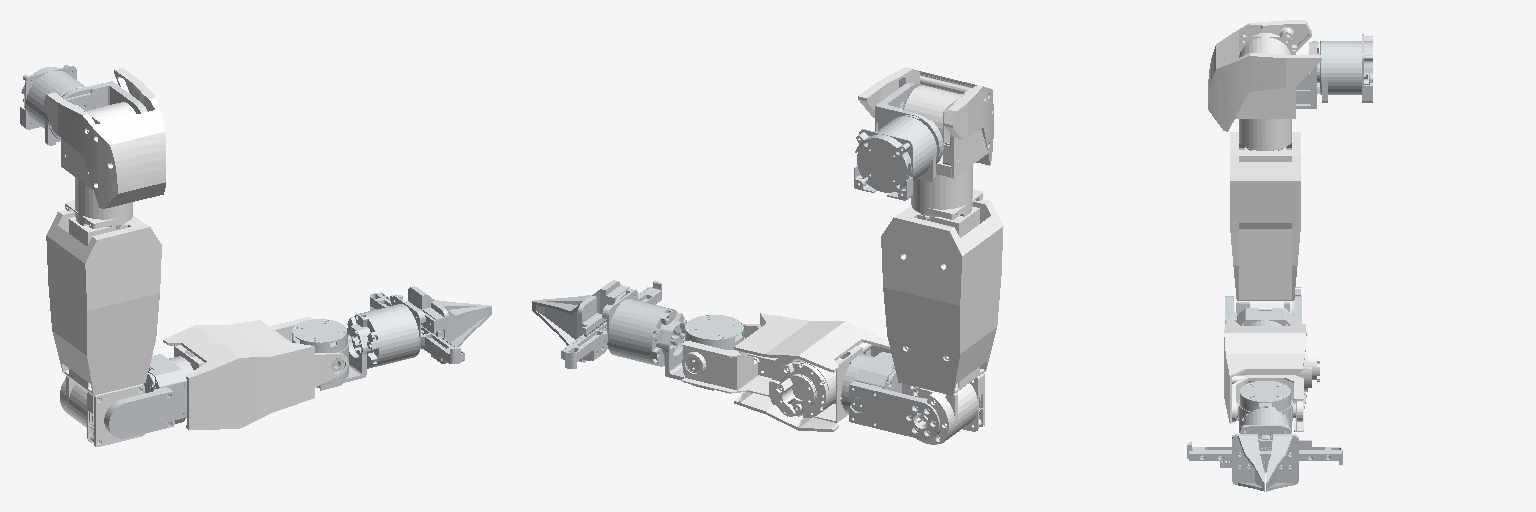
URDF robot description (X7RIGHTurdf):
<?xml version="1.0" encoding="utf-8"?>
<!-- This URDF was automatically created by SolidWorks to URDF Exporter! Originally created by [author] ([email redacted]) 
     Commit Version: 1.6.0-4-g7f85cfe  Build Version: 1.6.7995.38578
     For more information, please see http://wiki.ros.org/sw_urdf_exporter -->
<robot
  name="X7RIGHTurdf">
  <link
    name="base_link">
    <inertial>
      <origin
        xyz="1.2504E-08 -0.028534 -0.00042549"
        rpy="0 0 0" />
      <mass
        value="0.41722" />
      <inertia
        ixx="0.00019"
        ixy="0.00000"
        ixz="0.00000"
        iyy="0.00020"
        iyz="0.00000"
        izz="0.00019" />
    </inertial>
    <visual>
      <origin
        xyz="0 0 0"
        rpy="0 0 0" />
      <geometry>
        <mesh
          filename="package://X7RIGHTurdf/meshes/base_link.STL" />
      </geometry>
      <material
        name="">
        <color
          rgba="0.89804 0.91765 0.92941 1" />
      </material>
    </visual>
    <collision>
      <origin
        xyz="0 0 0"
        rpy="0 0 0" />
      <geometry>
        <mesh
          filename="package://X7RIGHTurdf/meshes/base_link.STL" />
      </geometry>
    </collision>
  </link>
  <link
    name="link1">
    <inertial>
      <origin
        xyz="0.020311877665791 0.0282074621926083 -0.000172803675324487"
        rpy="0 0 0" />
      <mass
        value="0.131891884746085" />
      <inertia
        ixx="0.00012"
        ixy="0.00004"
        ixz="0.00000"
        iyy="0.00009"
        iyz="0.00000"
        izz="0.00014" />
    </inertial>
    <visual>
      <origin
        xyz="0 0 0"
        rpy="0 0 0" />
      <geometry>
        <mesh
          filename="package://X7RIGHTurdf/meshes/link1.STL" />
      </geometry>
      <material
        name="">
        <color
          rgba="0.898039215686275 0.917647058823529 0.929411764705882 1" />
      </material>
    </visual>
    <collision>
      <origin
        xyz="0 0 0"
        rpy="0 0 0" />
      <geometry>
        <mesh
          filename="package://X7RIGHTurdf/meshes/link1.STL" />
      </geometry>
    </collision>
  </link>
  <joint
    name="joint1"
    type="revolute">
    <origin
      xyz="0 -0.05325 0"
      rpy="3.1416 0 0" />
    <parent
      link="base_link" />
    <child
      link="link1" />
    <axis
      xyz="0 1 0" />
    <limit
      lower="-10"
      upper="10"
      effort="100"
      velocity="1000" />
  </joint>
  <link
    name="link2">
    <inertial>
      <origin
        xyz="0.0247335828183295 0.00274558253413404 -0.0271343777277399"
        rpy="0 0 0" />
      <mass
        value="0.971762294464618" />
      <inertia
        ixx="0.00153"
        ixy="-0.00002"
        ixz="-0.00007"
        iyy="0.00153"
        iyz="0.00002"
        izz="0.00074" />
    </inertial>
    <visual>
      <origin
        xyz="0 0 0"
        rpy="0 0 0" />
      <geometry>
        <mesh
          filename="package://X7RIGHTurdf/meshes/link2.STL" />
      </geometry>
      <material
        name="">
        <color
          rgba="1 1 1 1" />
      </material>
    </visual>
    <collision>
      <origin
        xyz="0 0 0"
        rpy="0 0 0" />
      <geometry>
        <mesh
          filename="package://X7RIGHTurdf/meshes/link2.STL" />
      </geometry>
    </collision>
  </link>
  <joint
    name="joint2"
    type="revolute">
    <origin
      xyz="0.02725 0.063 0"
      rpy="-3.1416 0 3.1416" />
    <parent
      link="link1" />
    <child
      link="link2" />
    <axis
      xyz="1 0 0" />
    <limit
      lower="-10"
      upper="10"
      effort="100"
      velocity="1000" />
  </joint>
  <link
    name="link3">
    <inertial>
      <origin
        xyz="-0.000220857289176216 -0.000553733546450982 0.156391453478832"
        rpy="0 0 0" />
      <mass
        value="0.868185917328255" />
      <inertia
        ixx="0.00529"
        ixy="0.00001"
        ixz="-0.00005"
        iyy="0.00533"
        iyz="-0.00003"
        izz="0.00078" />
    </inertial>
    <visual>
      <origin
        xyz="0 0 0"
        rpy="0 0 0" />
      <geometry>
        <mesh
          filename="package://X7RIGHTurdf/meshes/link3.STL" />
      </geometry>
      <material
        name="">
        <color
          rgba="1 1 1 1" />
      </material>
    </visual>
    <collision>
      <origin
        xyz="0 0 0"
        rpy="0 0 0" />
      <geometry>
        <mesh
          filename="package://X7RIGHTurdf/meshes/link3.STL" />
      </geometry>
    </collision>
  </link>
  <joint
    name="joint3"
    type="revolute">
    <origin
      xyz="0.02725 0 -0.0865"
      rpy="3.1416 0 3.1416" />
    <parent
      link="link2" />
    <child
      link="link3" />
    <axis
      xyz="0 0 1" />
    <limit
      lower="-10"
      upper="10"
      effort="100"
      velocity="1000" />
  </joint>
  <link
    name="link4">
    <inertial>
      <origin
        xyz="0.0609931749498321 -0.0253615233623468 3.20631404917004E-05"
        rpy="0 0 0" />
      <mass
        value="0.483750765199191" />
      <inertia
        ixx="0.00037"
        ixy="-0.00001"
        ixz="0.00000"
        iyy="0.00043"
        iyz="0.00000"
        izz="0.00058" />
    </inertial>
    <visual>
      <origin
        xyz="0 0 0"
        rpy="0 0 0" />
      <geometry>
        <mesh
          filename="package://X7RIGHTurdf/meshes/link4.STL" />
      </geometry>
      <material
        name="">
        <color
          rgba="0.898039215686275 0.917647058823529 0.929411764705882 1" />
      </material>
    </visual>
    <collision>
      <origin
        xyz="0 0 0"
        rpy="0 0 0" />
      <geometry>
        <mesh
          filename="package://X7RIGHTurdf/meshes/link4.STL" />
      </geometry>
    </collision>
  </link>
  <joint
    name="joint4"
    type="revolute">
    <origin
      xyz="0 -0.02725 0.2165"
      rpy="-3.1416 0 0" />
    <parent
      link="link3" />
    <child
      link="link4" />
    <axis
      xyz="0 1 0" />
    <limit
      lower="-10"
      upper="10"
      effort="100"
      velocity="1000" />
  </joint>
  <link
    name="link5">
    <inertial>
      <origin
        xyz="0.0539578945957472 0.0089407013070102 -5.90329841147486E-05"
        rpy="0 0 0" />
      <mass
        value="0.590581391484993" />
      <inertia
        ixx="0.00058"
        ixy="-0.00004"
        ixz="0.00000"
        iyy="0.00099"
        iyz="0.00000"
        izz="0.00114" />
    </inertial>
    <visual>
      <origin
        xyz="0 0 0"
        rpy="0 0 0" />
      <geometry>
        <mesh
          filename="package://X7RIGHTurdf/meshes/link5.STL" />
      </geometry>
      <material
        name="">
        <color
          rgba="1 1 1 1" />
      </material>
    </visual>
    <collision>
      <origin
        xyz="0 0 0"
        rpy="0 0 0" />
      <geometry>
        <mesh
          filename="package://X7RIGHTurdf/meshes/link5.STL" />
      </geometry>
    </collision>
  </link>
  <joint
    name="joint5"
    type="revolute">
    <origin
      xyz="0.0935 -0.02725 0"
      rpy="0 0 0" />
    <parent
      link="link4" />
    <child
      link="link5" />
    <axis
      xyz="1 0 0" />
    <limit
      lower="-10"
      upper="10"
      effort="100"
      velocity="1000" />
  </joint>
  <link
    name="link6">
    <inertial>
      <origin
        xyz="4.63452932937813E-05 -0.0398199543661096 -0.00114114597419041"
        rpy="0 0 0" />
      <mass
        value="0.334676122767707" />
      <inertia
        ixx="0.00013"
        ixy="0.00000"
        ixz="0.00000"
        iyy="0.00012"
        iyz="0.00000"
        izz="0.00015" />
    </inertial>
    <visual>
      <origin
        xyz="0 0 0"
        rpy="0 0 0" />
      <geometry>
        <mesh
          filename="package://X7RIGHTurdf/meshes/link6.STL" />
      </geometry>
      <material
        name="">
        <color
          rgba="0.898039215686275 0.917647058823529 0.929411764705882 1" />
      </material>
    </visual>
    <collision>
      <origin
        xyz="0 0 0"
        rpy="0 0 0" />
      <geometry>
        <mesh
          filename="package://X7RIGHTurdf/meshes/link6.STL" />
      </geometry>
    </collision>
  </link>
  <joint
    name="joint6"
    type="revolute">
    <origin
      xyz="0.1615 0.04025 0"
      rpy="0 0 0" />
    <parent
      link="link5" />
    <child
      link="link6" />
    <axis
      xyz="0 1 0" />
    <limit
      lower="-10"
      upper="10"
      effort="100"
      velocity="1000" />
  </joint>
  <link
    name="link7">
    <inertial>
      <origin
        xyz="0.0904376753475253 -4.59300094018955E-05 0.0203282088603868"
        rpy="0 0 0" />
      <mass
        value="0.600472510680938" />
      <inertia
        ixx="0.00049"
        ixy="0.00000"
        ixz="0.00008"
        iyy="0.00078"
        iyz="0.00000"
        izz="0.00102" />
    </inertial>
    <visual>
      <origin
        xyz="0 0 0"
        rpy="0 0 0" />
      <geometry>
        <mesh
          filename="package://X7RIGHTurdf/meshes/link7.STL" />
      </geometry>
      <material
        name="">
        <color
          rgba="0.898039215686275 0.917647058823529 0.929411764705882 1" />
      </material>
    </visual>
    <collision>
      <origin
        xyz="0 0 0"
        rpy="0 0 0" />
      <geometry>
        <mesh
          filename="package://X7RIGHTurdf/meshes/link7.STL" />
      </geometry>
    </collision>
  </link>
  <joint
    name="joint7"
    type="revolute">
    <origin
      xyz="0 -0.04025 -0.022"
      rpy="0 0 0" />
    <parent
      link="link6" />
    <child
      link="link7" />
    <axis
      xyz="0 0 -1" />
    <limit
      lower="-10"
      upper="10"
      effort="100"
      velocity="1000" />
  </joint>
</robot>

--- Render facts (derived) ---
Views: 3 orthographic renders of the robot side by side, from view 1: azimuth 30°, elevation 25°; view 2: azimuth 150°, elevation 25°; view 3: azimuth 270°, elevation 25°.
Model X7RIGHTurdf with 8 links and 7 joints (7 revolute), rooted at base_link, posed every joint at zero.
Visible links, largest first — view 1: link3, link5, link2, link7, link4, base_link, link6, link1; view 2: link3, link5, link2, link7, base_link, link4, link6, link1; view 3: link3, link2, link5, link7, base_link, link6, link4, link1.
Link boxes in pixels (x1=…): link3: x1=46, y1=210, x2=161, y2=446; link5: x1=163, y1=317, x2=348, y2=429; link2: x1=44, y1=68, x2=165, y2=228; link7: x1=316, y1=286, x2=491, y2=390; link4: x1=104, y1=354, x2=193, y2=438; base_link: x1=20, y1=65, x2=84, y2=145; link6: x1=291, y1=319, x2=348, y2=385; link1: x1=52, y1=81, x2=147, y2=140; link3: x1=881, y1=199, x2=1003, y2=444; link5: x1=682, y1=313, x2=890, y2=431; link2: x1=858, y1=67, x2=993, y2=219; link7: x1=532, y1=280, x2=713, y2=390; base_link: x1=854, y1=116, x2=936, y2=200; link4: x1=841, y1=352, x2=939, y2=439; link6: x1=683, y1=315, x2=744, y2=374; link1: x1=875, y1=82, x2=943, y2=163; link3: x1=1230, y1=132, x2=1300, y2=315; link2: x1=1208, y1=20, x2=1321, y2=150; link5: x1=1224, y1=319, x2=1319, y2=431; link7: x1=1187, y1=406, x2=1342, y2=491; base_link: x1=1317, y1=34, x2=1372, y2=102; link6: x1=1237, y1=381, x2=1295, y2=432; link4: x1=1225, y1=296, x2=1301, y2=325; link1: x1=1296, y1=41, x2=1319, y2=108.
Size in the robot's own frame: 0.5028 by 0.2065 by 0.3821 metres.
Meshes: 8 distinct files referenced, 8 mesh visuals loaded (8 binary STL).